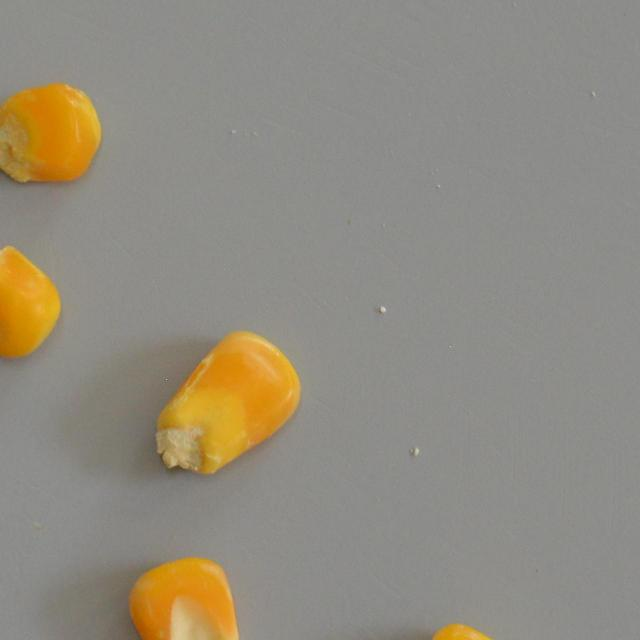entero: (154, 326, 306, 474), (126, 553, 249, 640)
no_desgerminado: (0, 80, 106, 186)
pelicula: (0, 242, 62, 361)
punto_negro: (419, 623, 528, 640)
